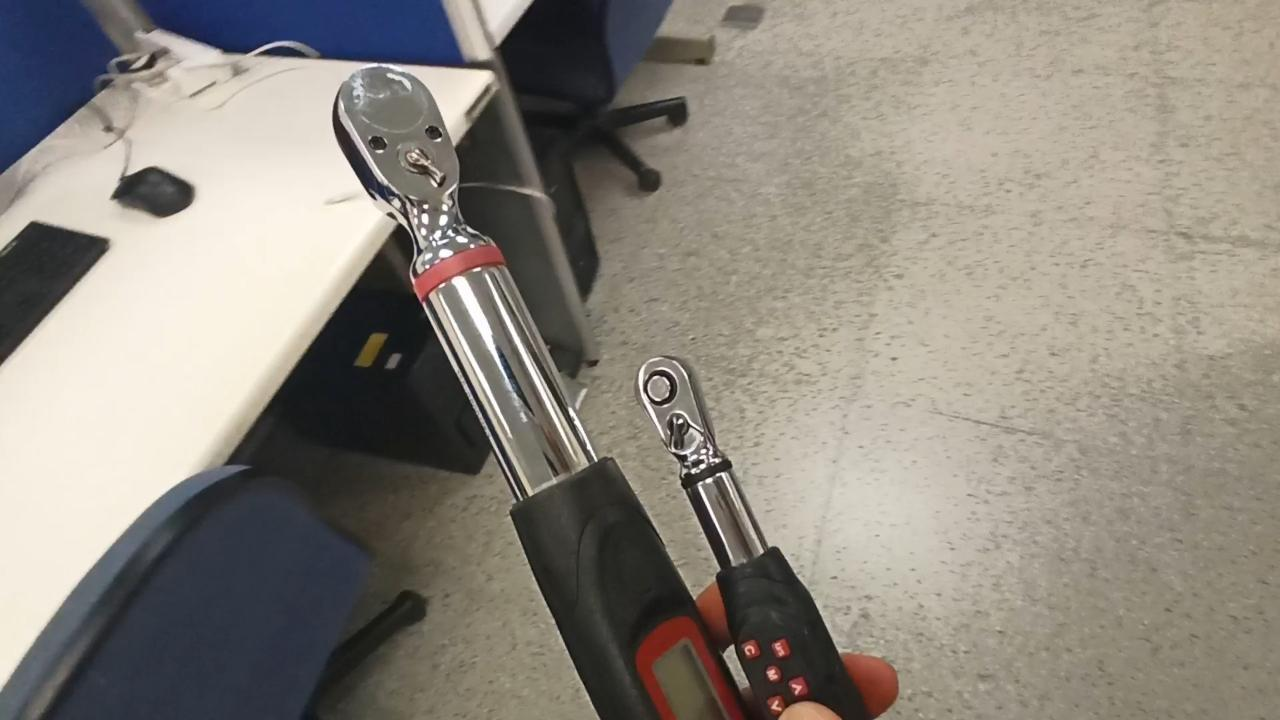Tool: (329, 70, 475, 256), (636, 355, 722, 469)
